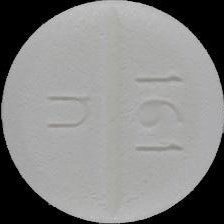43386-161: (0, 0, 224, 224)
